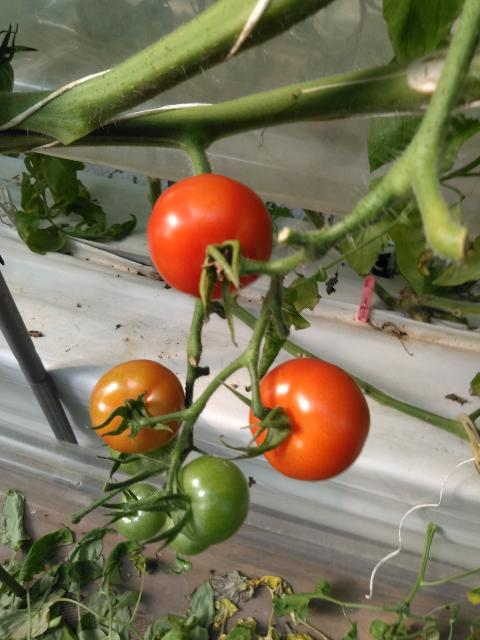l_fully_ripened: (147, 173, 273, 301), (249, 357, 370, 482)
l_green: (169, 456, 250, 544), (108, 430, 180, 477), (115, 483, 167, 542), (165, 512, 210, 555)
l_half_ripened: (89, 359, 186, 454)
